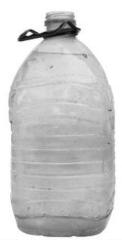plastic: (8, 10, 116, 236)
